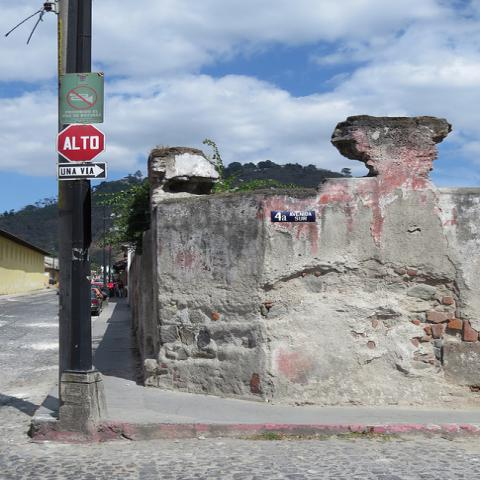car: (88, 288, 102, 315), (93, 288, 103, 300), (90, 283, 103, 291), (94, 280, 100, 284)
